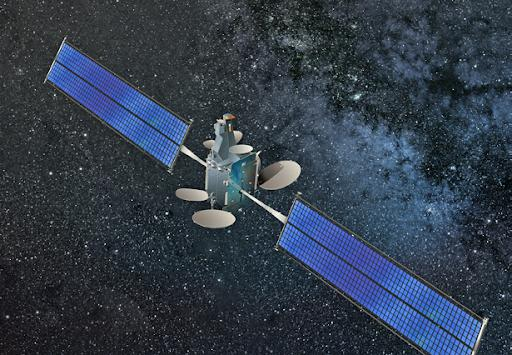antenna: (256, 159, 303, 192), (191, 208, 237, 229), (174, 187, 210, 202), (227, 143, 255, 156), (231, 129, 245, 145), (202, 138, 219, 150)
body: (204, 111, 263, 217)
solar: (273, 194, 491, 355), (42, 35, 196, 175)
